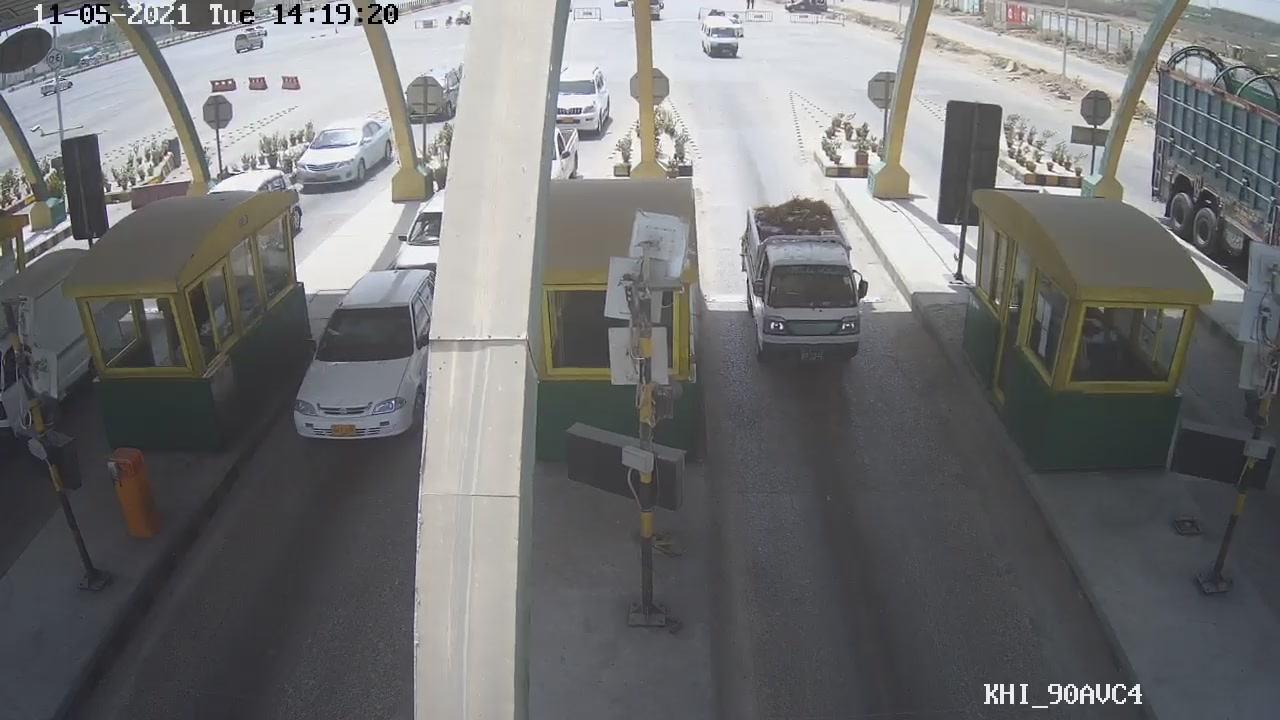F1: (737, 196, 881, 377)
